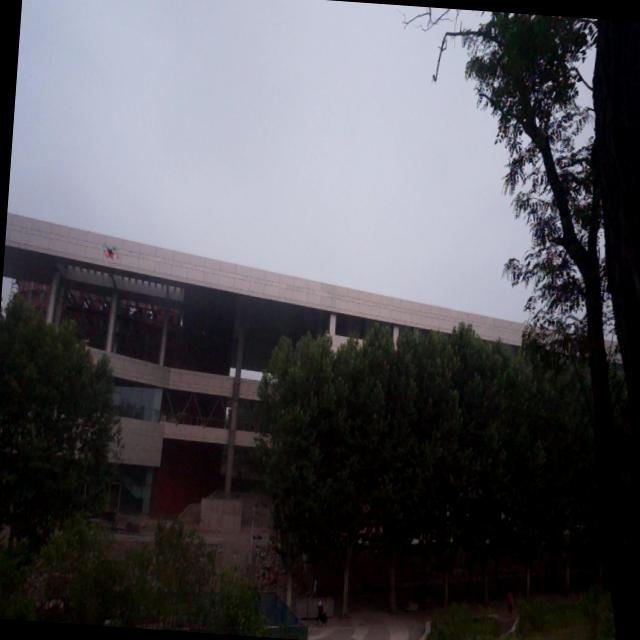drone: (104, 241, 118, 262)
